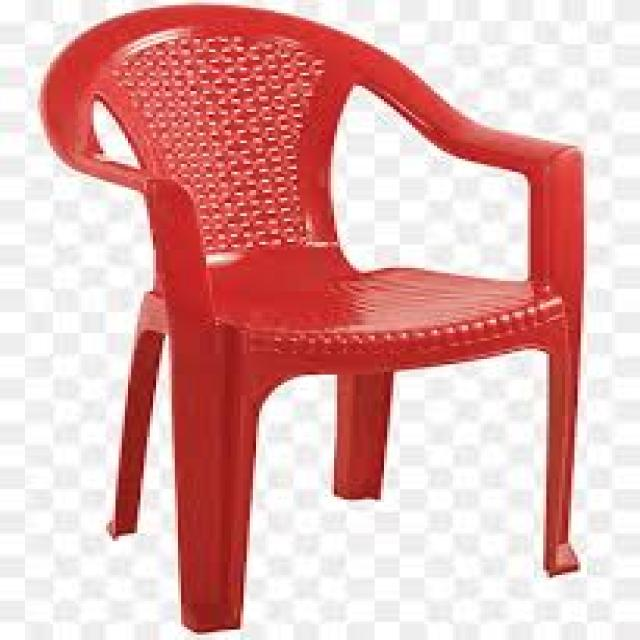chair: (45, 5, 585, 632)
